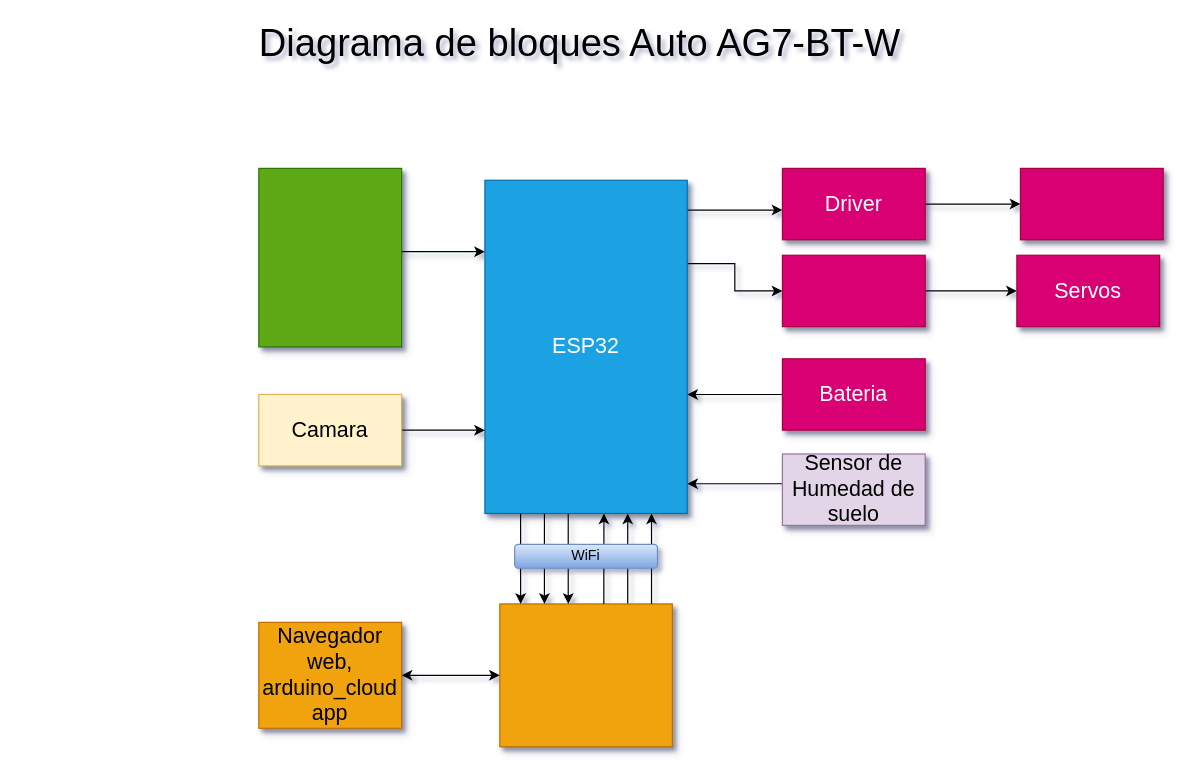
This 1198x783 diagram has some shape labels left out. The shapes that lost their labels are listed below. From the top down, each one's centre as x and y in pixels, then its label:
At (1092,205): "Motor".
At (331,258): "Sensor de deteccion de obstaculos".
At (854,292): "Control de Servos".
At (586,676): "Arduino_Cloud".
